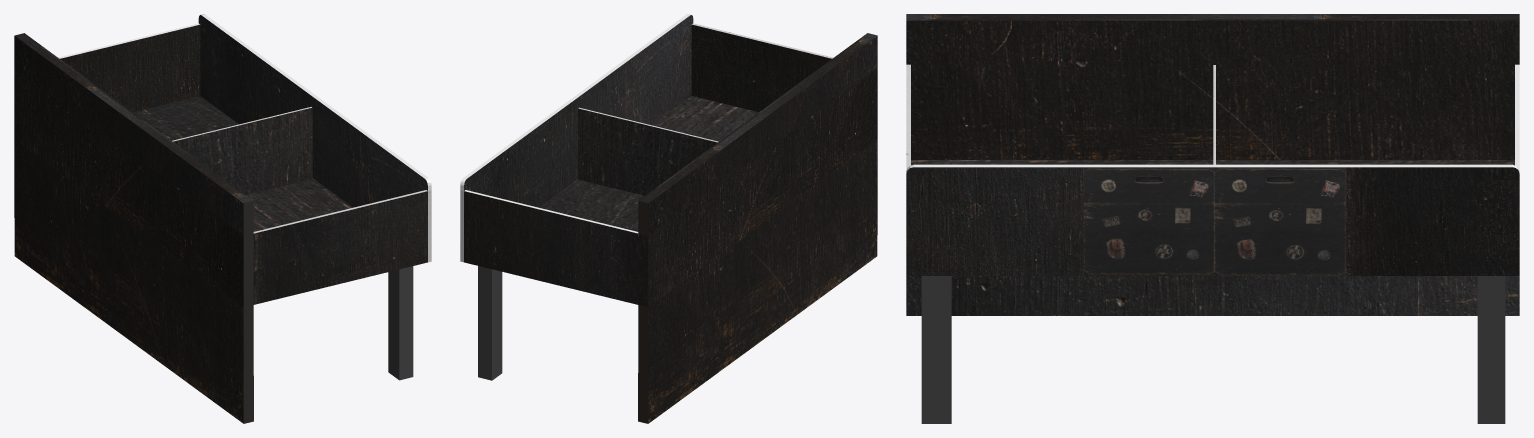
File: Shelf.fbx
3 renders of one model, left to right at view 1: azimuth 30°, elevation 25°; view 2: azimuth 150°, elevation 25°; view 3: azimuth 270°, elevation 25°, orthographic. The views are drawn at different scales.
Visible parts, largest first — view 1: Cube.002, Cube, Cube.001; view 2: Cube.002, Cube, Cube.001; view 3: Cube.002, Cube.
Boxes of the visible parts, left/top/right/bottom form: Cube.002: left=14, top=14, right=431, bottom=423; Cube: left=133, top=96, right=413, bottom=380; Cube.001: left=172, top=107, right=312, bottom=194; Cube.002: left=460, top=14, right=877, bottom=423; Cube: left=478, top=96, right=758, bottom=380; Cube.001: left=578, top=107, right=718, bottom=195; Cube.002: left=906, top=14, right=1519, bottom=315; Cube: left=911, top=160, right=1514, bottom=423.
Size of the model in its own units: 148 by 166 by 313.
